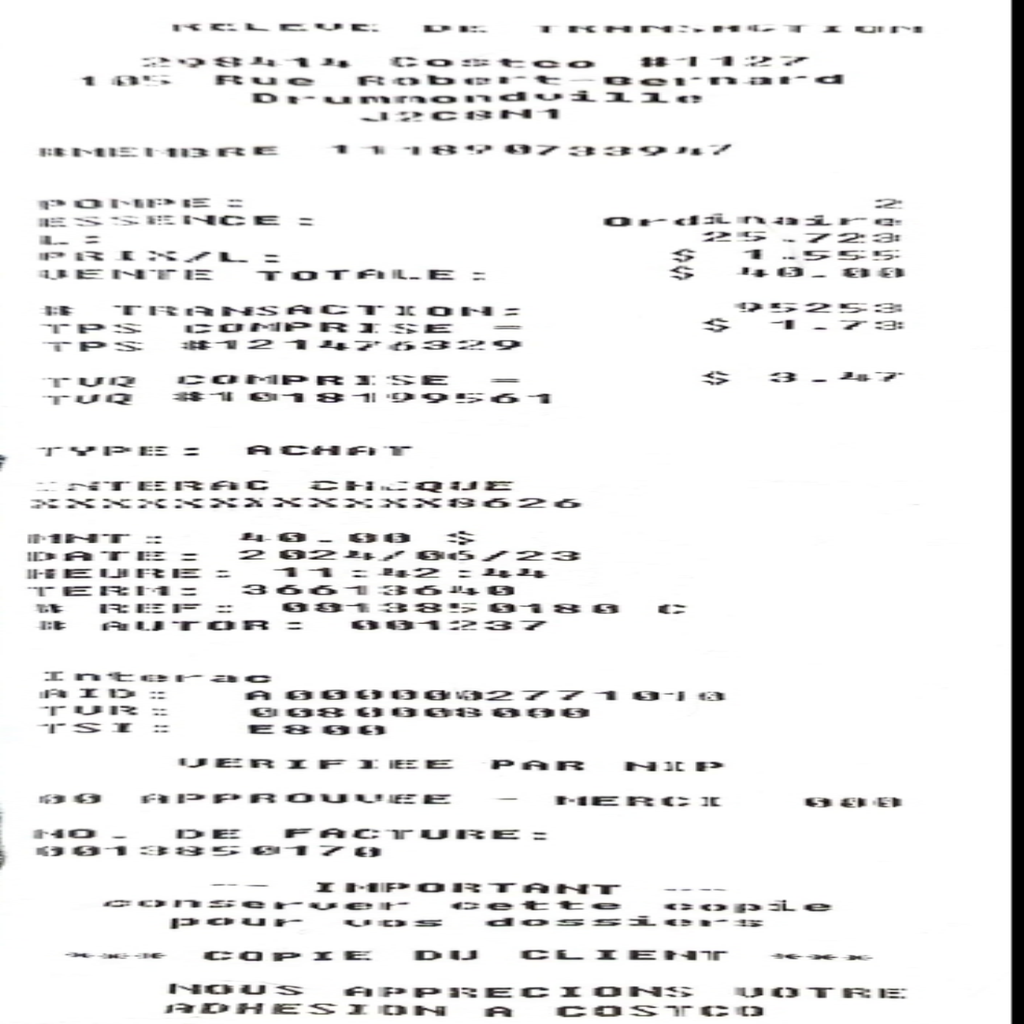recipt: (4, 0, 999, 1005)
